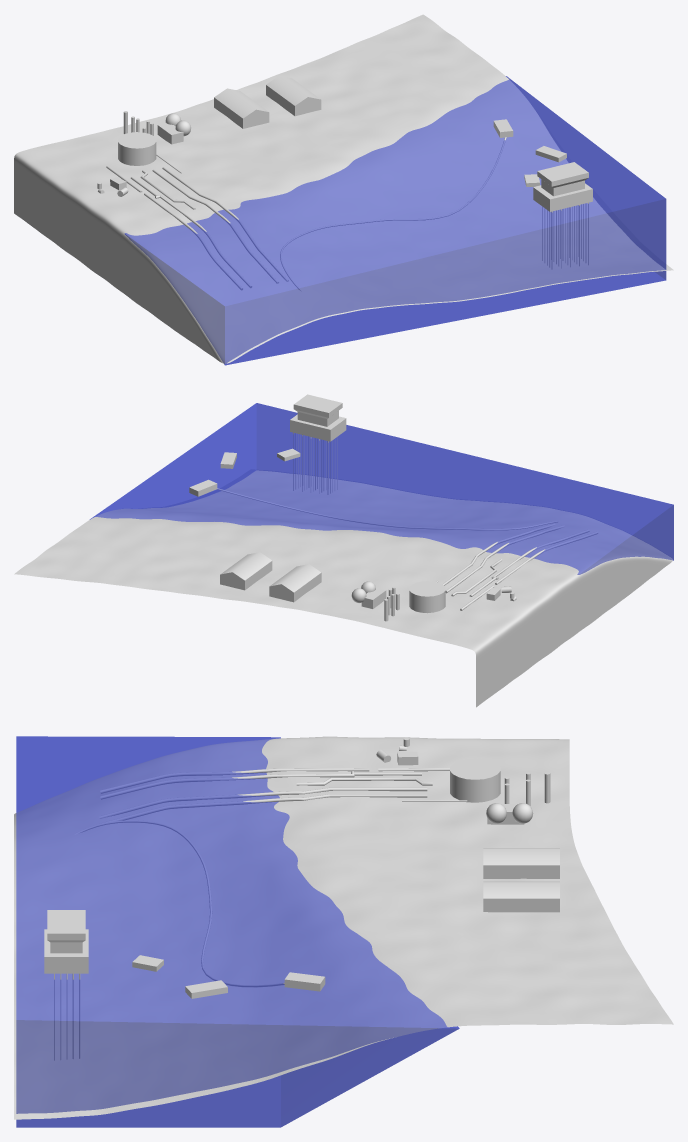
The model's file is tdw_scene.fbx.
3 views of the same model, one above another, from view 1: azimuth 30°, elevation 25°; view 2: azimuth 150°, elevation 25°; view 3: azimuth 270°, elevation 25° (orthographic). The views are drawn at different scales.
Parts seen in each view (by area): view 1: Plane001, Box002, Line004, Box005, Line035, Box008, Box007, Cylinder001, Line007; view 2: Plane001, Box002, Box005, Line004, Line035, Box008, Box007, Cylinder001, Line007; view 3: Plane001, Box002, Line004, Box005, Box008, Box007, Cylinder001, Line007, Line035, Box003.
Part boxes in pixels (x1=…): Plane001: x1=14, y1=14, x2=673, y2=363; Box002: x1=124, y1=76, x2=666, y2=365; Line004: x1=106, y1=165, x2=288, y2=290; Box005: x1=533, y1=162, x2=592, y2=211; Line035: x1=542, y1=202, x2=588, y2=269; Box008: x1=266, y1=75, x2=321, y2=116; Box007: x1=214, y1=88, x2=269, y2=128; Cylinder001: x1=118, y1=132, x2=156, y2=165; Line007: x1=280, y1=137, x2=506, y2=291; Plane001: x1=14, y1=469, x2=672, y2=707; Box002: x1=89, y1=403, x2=673, y2=574; Box005: x1=290, y1=394, x2=346, y2=441; Line004: x1=442, y1=523, x2=597, y2=610; Line035: x1=293, y1=432, x2=337, y2=494; Box008: x1=220, y1=552, x2=272, y2=590; Box007: x1=269, y1=564, x2=321, y2=602; Cylinder001: x1=409, y1=581, x2=445, y2=613; Line007: x1=217, y1=488, x2=558, y2=530; Plane001: x1=14, y1=736, x2=673, y2=1119; Box002: x1=16, y1=736, x2=459, y2=1127; Line004: x1=99, y1=768, x2=449, y2=823; Box005: x1=44, y1=910, x2=88, y2=973; Box008: x1=483, y1=881, x2=559, y2=912; Box007: x1=483, y1=848, x2=559, y2=878; Cylinder001: x1=450, y1=758, x2=500, y2=802; Line007: x1=73, y1=820, x2=284, y2=987; Line035: x1=54, y1=973, x2=80, y2=1060; Box003: x1=284, y1=972, x2=325, y2=991.
Bounding box in the file's own units: 1813 × 443 × 1746.
